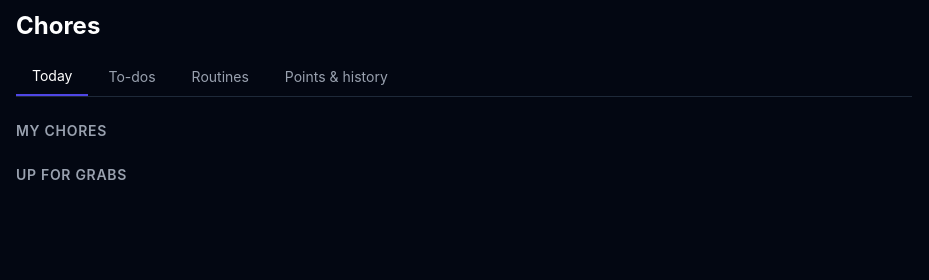
Scenario: ChoresPage › Routines › can't tick someone else's routine
Click the tab "Routines": coordinates (220, 77) [176,58,265,96]
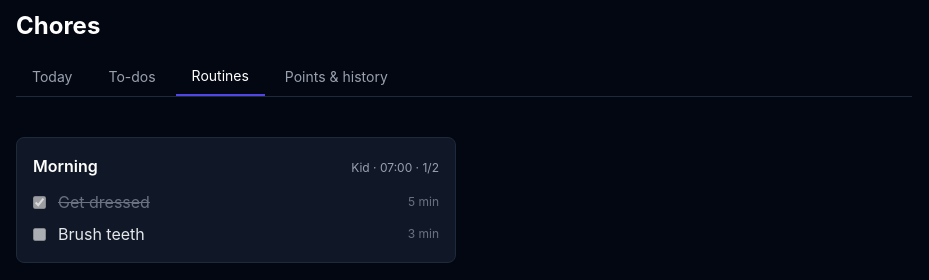
Result: the checkbox named "Brush teeth done" is disabled at [33,228,46,240]
